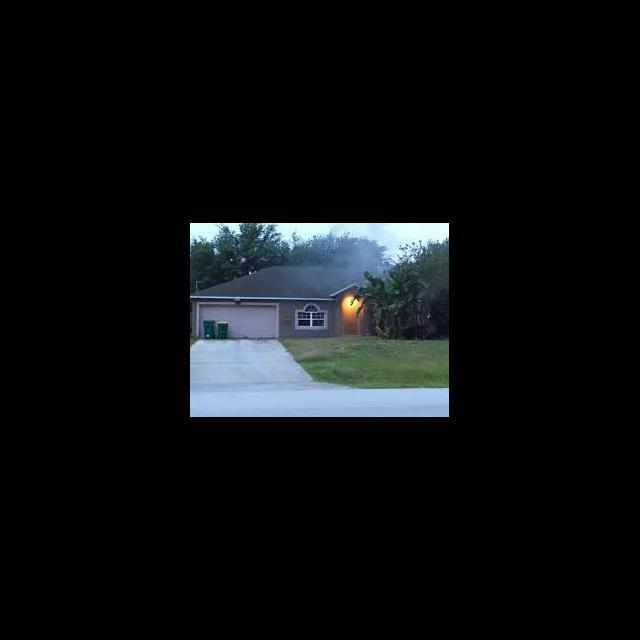Fire: (338, 293, 363, 323)
